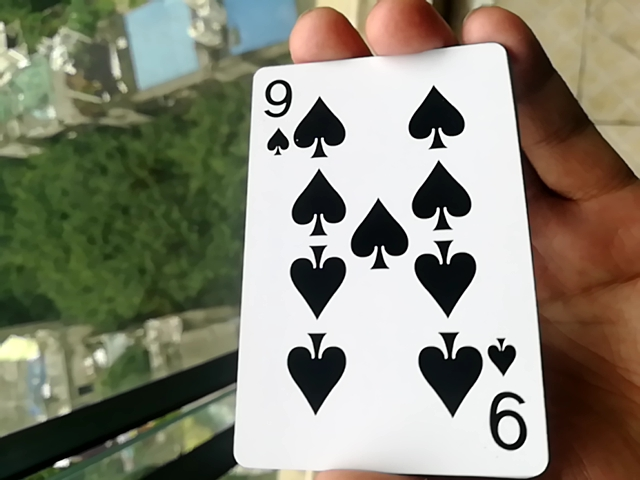ht 9: (228, 45, 538, 474)
